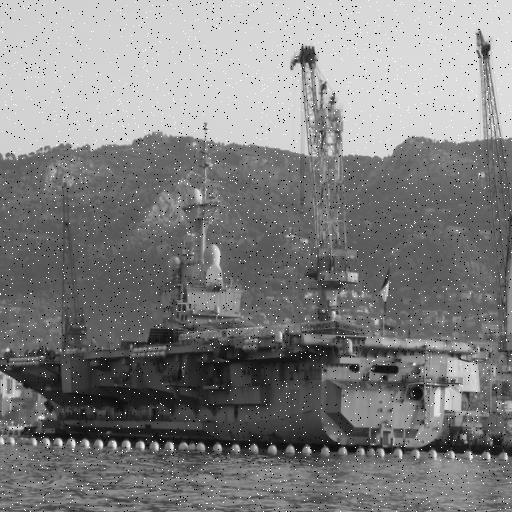Portanaves: (1, 188, 489, 457)
